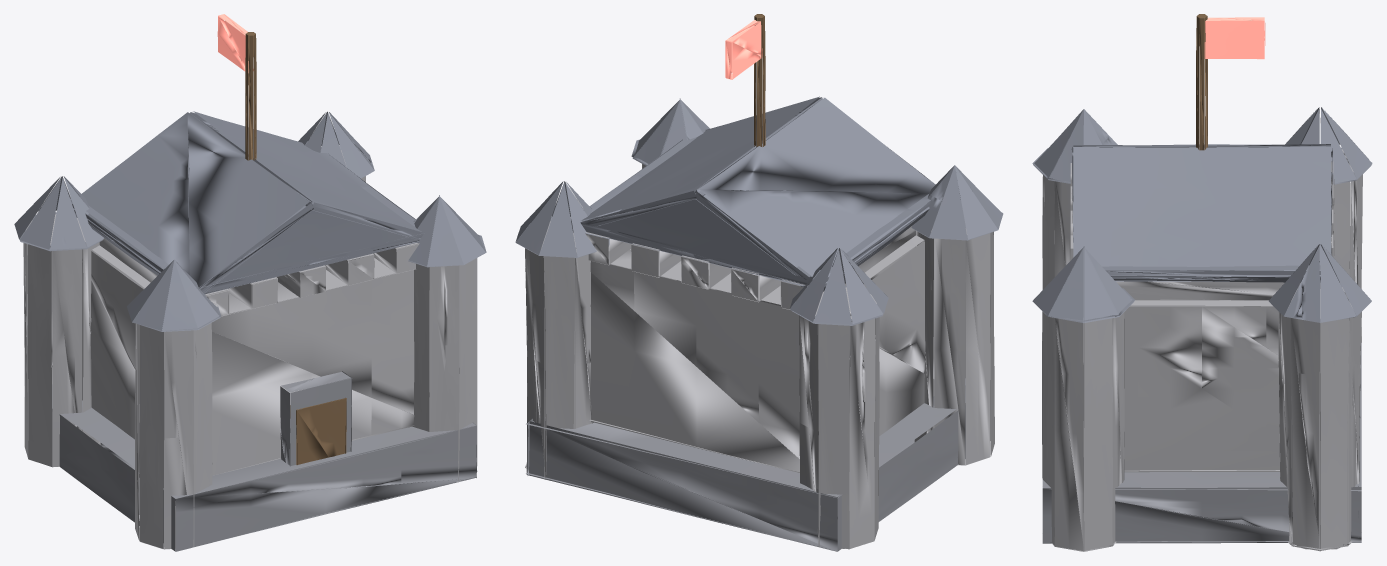
File: castle.glb
3 views of the same model, side by side, from view 1: azimuth 30°, elevation 25°; view 2: azimuth 150°, elevation 25°; view 3: azimuth 270°, elevation 25° (orthographic). The views are drawn at different scales.
Visible parts, largest first — view 1: KeepBase; view 2: KeepBase; view 3: KeepBase.
Part boxes in pixels (x1,y1,x2,y2): KeepBase: [14, 14, 486, 551]; KeepBase: [515, 14, 1003, 551]; KeepBase: [1032, 14, 1372, 551].
Size of the model in its own units: 3.49 by 4.07 by 2.78.
